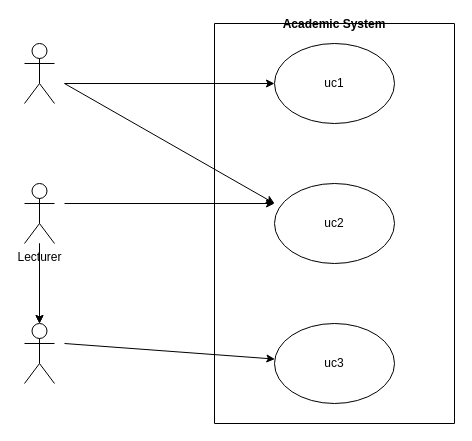
Some shapes in this 472 by 441 pixel diagram are drawn without their labels. The centre of each missing label's shape, as x and y in pixels:
Admin: pixel 39 353
Student: pixel 39 73
